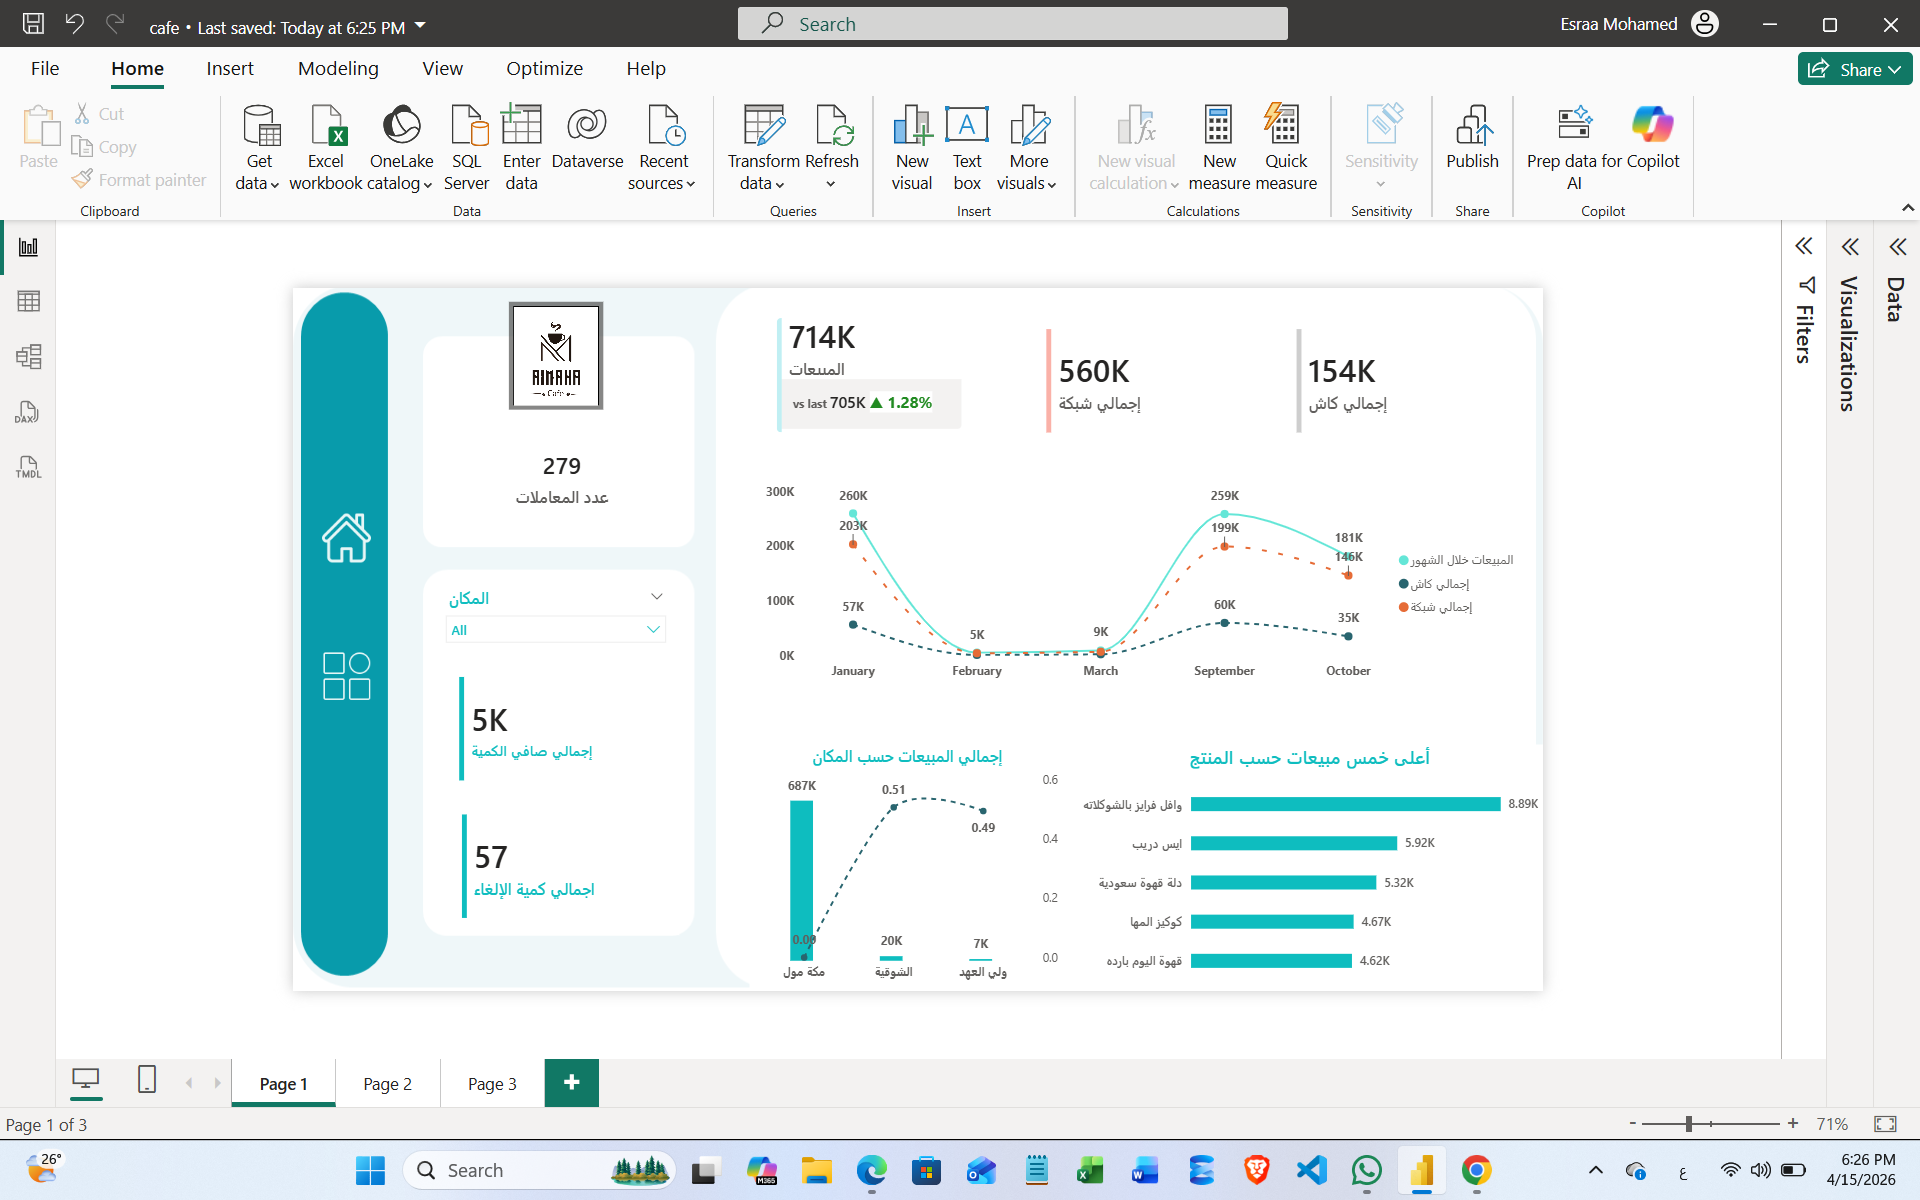

What the dashboard file says about the page in this screenshot:
{"tool":"powerbi","page":{"name":"Page 1","canvas":[1280,720],"ordinal":0},"visuals":[{"type":"card","fields":{"Values":["مبيعات المناطق.عدد المعاملات"]},"box":[146.9,129.6,258,127.2],"z":1},{"type":"cardVisual","fields":{"Data":["مبيعات المناطق.إجمالي المبيعات"]},"box":[478.9,14.6,227.5,151.7],"z":5},{"type":"lineChart","fields":{"Category":["التاريخ Dim.التاريخ.Variation.Date Hierarchy.Month"],"Y":["مبيعات المناطق.إجمالي المبيعات","_Measure.إجمالي كاش","_Measure.إجمالي شبكة"]},"box":[478.9,194.2,788.9,215.5],"z":6},{"type":"lineStackedColumnComboChart","title":"إجمالي المبيعات  حسب المكان","fields":{"Category":["المناطق Dim.المكان"],"Y":["مبيعات المناطق.إجمالي المبيعات"],"Y2":["مبيعات المناطق.نسبة التغيير"]},"box":[468.3,468.3,323.3,251.4],"z":7},{"type":"barChart","title":"أعلى خمس مبيعات حسب المنتج ","fields":{"Category":["المنتج Dim.المنتج"],"Y":["المبيعات حسب المنتج Report (المبيعات حسب المنتج Report).إجمالي المبيعات حسب المنتج"]},"box":[802.2,468.3,477.6,251.4],"z":10},{"type":"image","box":[220.6,14.7,97.1,110.3],"z":11},{"type":"slicer","fields":{"Values":["المناطق Dim.المكان"]},"box":[146.9,301.6,245.3,96.9],"z":12},{"type":"cardVisual","fields":{"Data":["الاصناف الموجودة بفرع الشوقية حتى 12/4/2026 (ورقة1).إجمالي صافي الكمية"]},"box":[153.1,381.2,239.1,140.6],"z":13},{"type":"cardVisual","fields":{"Data":["الاصناف الموجودة بفرع الشوقية حتى 12/4/2026 (ورقة1).اجمالي كمية الإلغاء"]},"box":[156.2,521.9,239.1,140.6],"z":14},{"type":"cardVisual","fields":{"Data":["مبيعات المناطق.إجمالي شبكة"]},"box":[754.7,25,239.1,140.6],"z":15},{"type":"cardVisual","fields":{"Data":["مبيعات المناطق.إجمالي كاش"]},"box":[1010.9,25,239.1,140.6],"z":16},{"type":"image","box":[25,231.2,59.4,50],"z":17},{"type":"image","box":[25,373.4,59.4,48.4],"z":18}]}

Visuals, with their boxes on the page's 1280x720 design canvas (x1, y1, x2, y2). These are canvas units, not pixel positions in the 1920x1200 screenshot, which may show the page scaled, cropped or inside an application window:
card - مبيعات المناطق.عدد المعاملات: box(147, 130, 405, 257)
cardVisual - مبيعات المناطق.إجمالي المبيعات: box(479, 15, 706, 166)
lineChart - التاريخ Dim.التاريخ.Variation.Date Hierarchy.Month x مبيعات المناطق.إجمالي المبيعات: box(479, 194, 1268, 410)
"إجمالي المبيعات  حسب المكان" lineStackedColumnComboChart: box(468, 468, 792, 720)
"أعلى خمس مبيعات حسب المنتج " barChart: box(802, 468, 1280, 720)
image: box(221, 15, 318, 125)
slicer - المناطق Dim.المكان: box(147, 302, 392, 398)
cardVisual - الاصناف الموجودة بفرع الشوقية حتى 12/4/2026 (ورقة1).إجمالي صافي الكمية: box(153, 381, 392, 522)
cardVisual - الاصناف الموجودة بفرع الشوقية حتى 12/4/2026 (ورقة1).اجمالي كمية الإلغاء: box(156, 522, 395, 662)
cardVisual - مبيعات المناطق.إجمالي شبكة: box(755, 25, 994, 166)
cardVisual - مبيعات المناطق.إجمالي كاش: box(1011, 25, 1250, 166)
image: box(25, 231, 84, 281)
image: box(25, 373, 84, 422)
